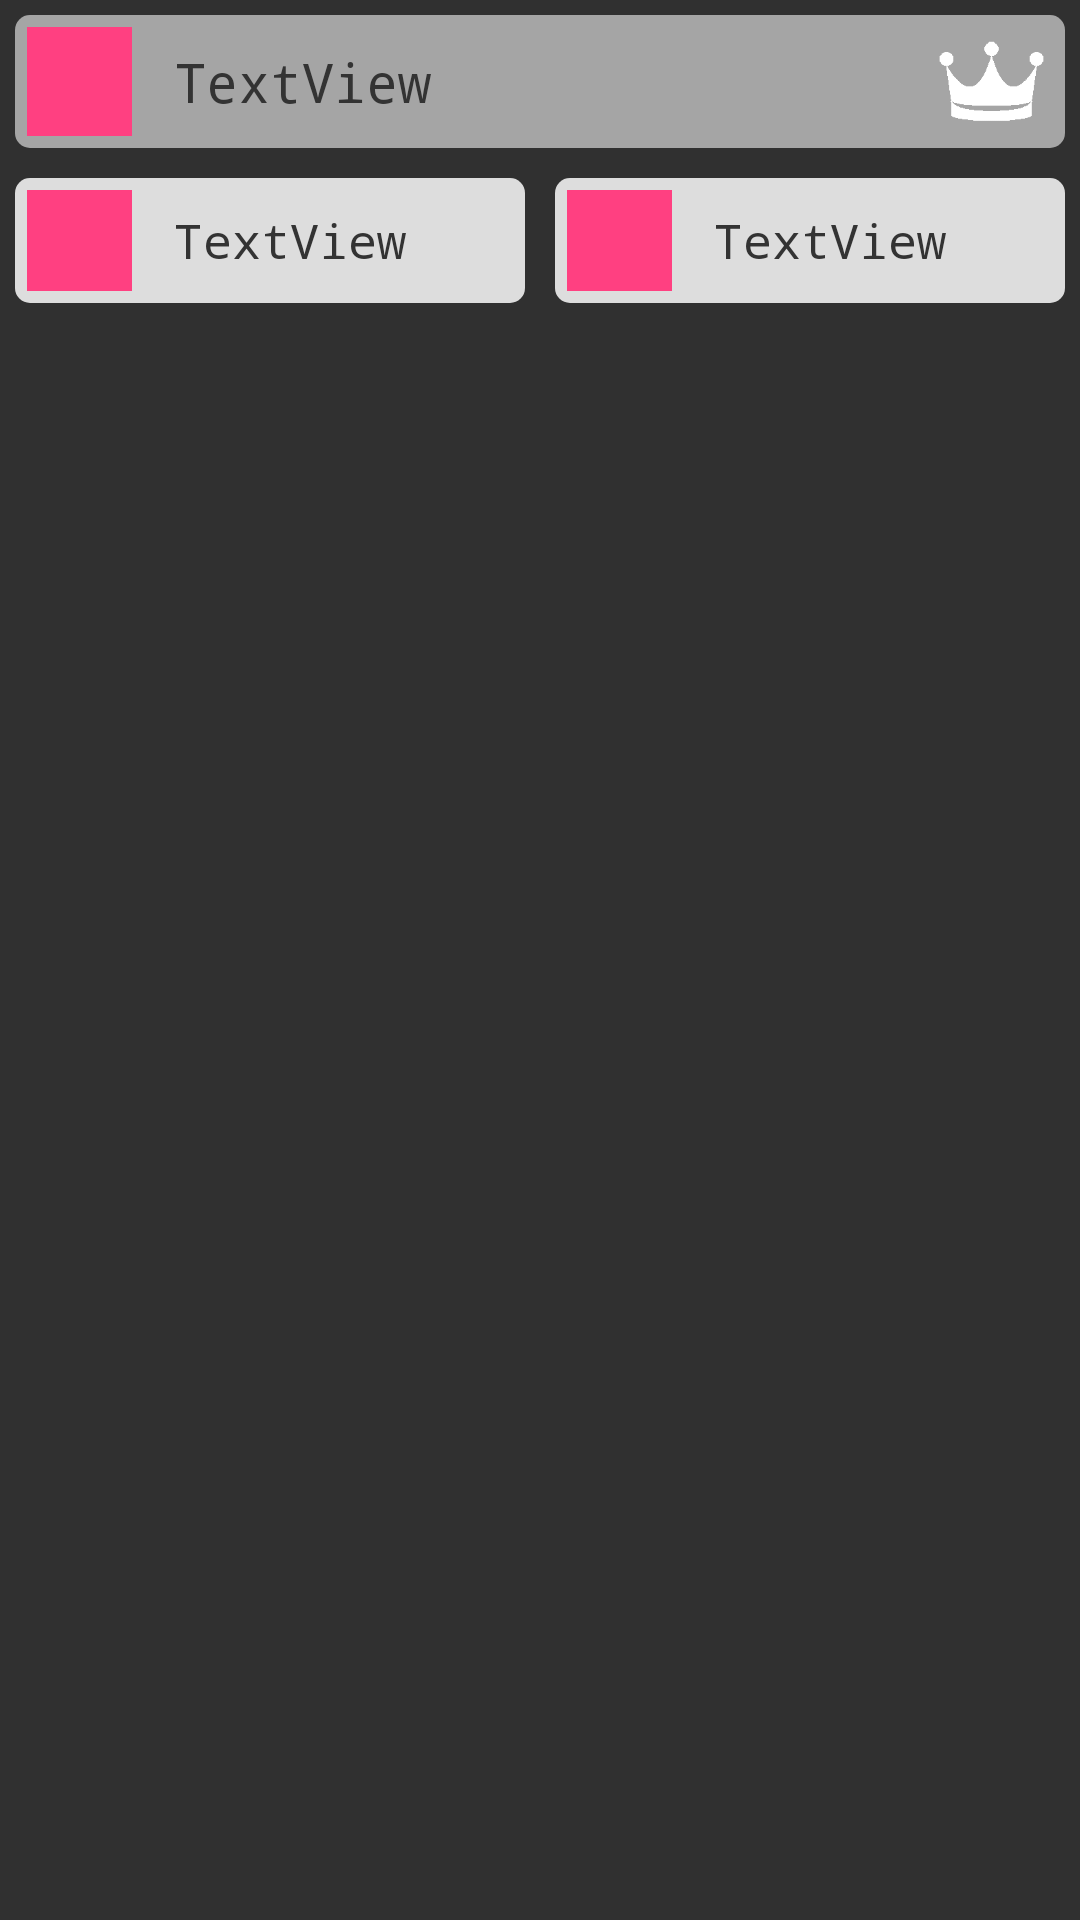

Icons on this 1080*1920 Android screen, each with its box as [x1, y1, x2, y2]:
king: [939, 42, 1044, 121]
